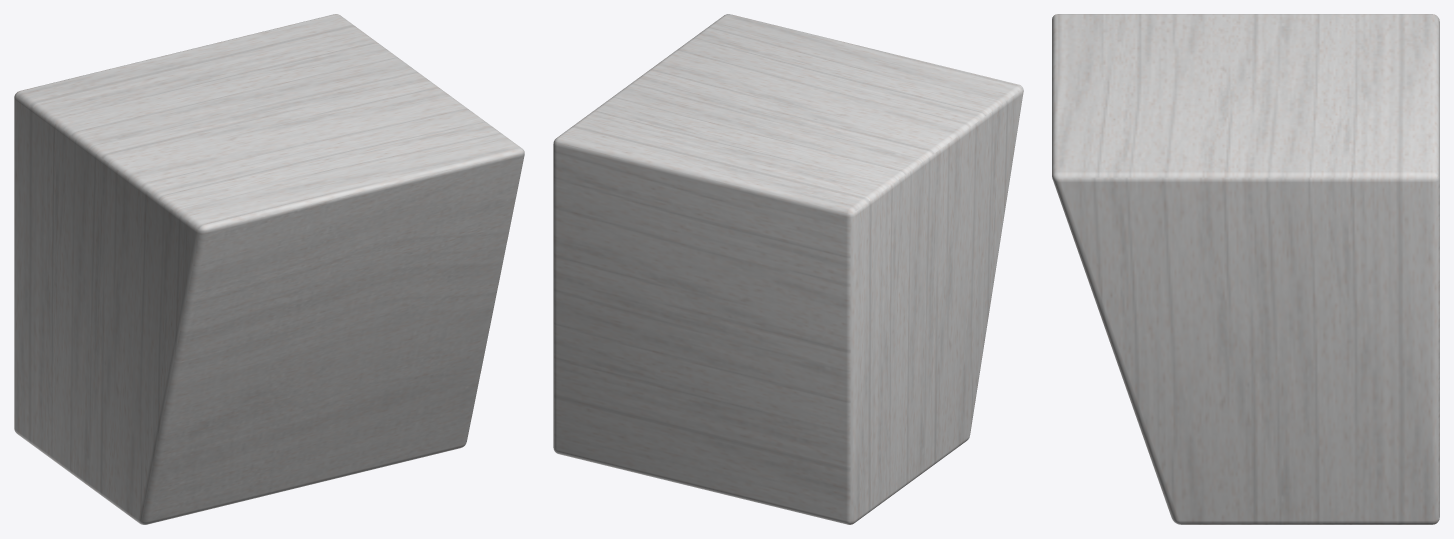
3 renders of one model, left to right at view 1: azimuth 30°, elevation 25°; view 2: azimuth 150°, elevation 25°; view 3: azimuth 270°, elevation 25°, orthographic. The views are drawn at different scales.
Visible parts, largest first — view 1: Cubo_optimizado_Export.002; view 2: Cubo_optimizado_Export.002; view 3: Cubo_optimizado_Export.002.
Part boxes in pixels (box(x1,y1,x2,y2)): Cubo_optimizado_Export.002: box(14, 14, 524, 524); Cubo_optimizado_Export.002: box(553, 14, 1023, 524); Cubo_optimizado_Export.002: box(1052, 14, 1439, 524).
Size of the model in its own units: 2 by 2 by 2.
1 material, 1 textured.
